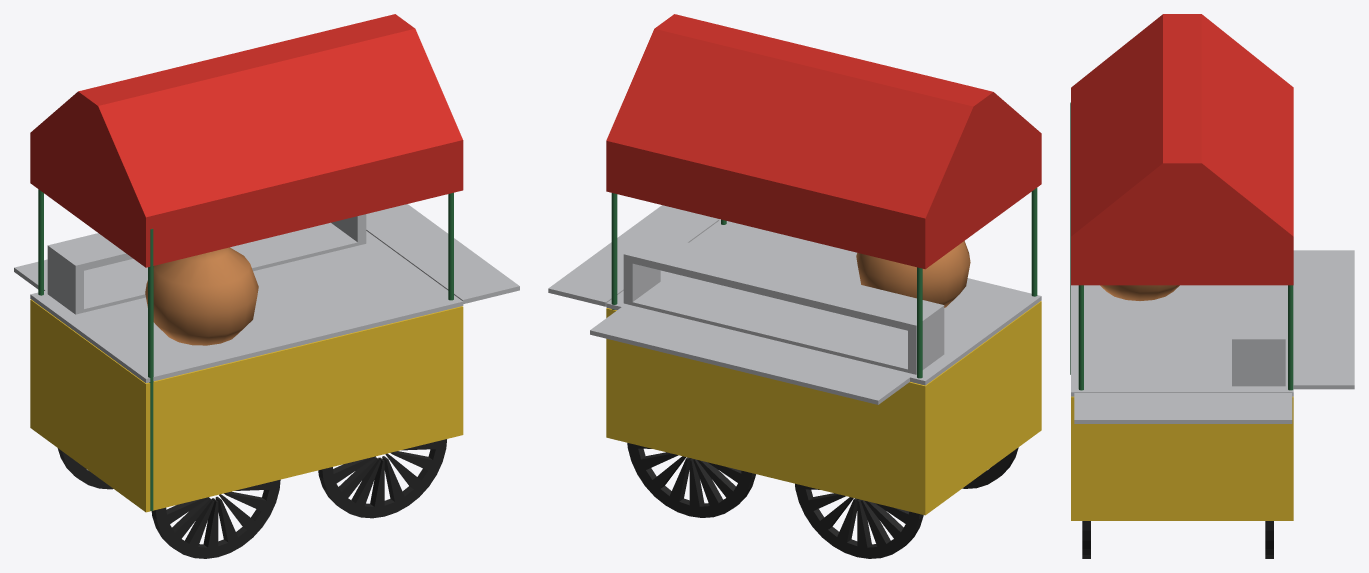
The model's file is foul-cart.glb.
The picture shows the model from 3 angles, left to right: view 1: azimuth 30°, elevation 25°; view 2: azimuth 150°, elevation 25°; view 3: azimuth 270°, elevation 25°; orthographic projection. The views are drawn at different scales.
Visible parts, largest first — view 1: foul_cart; view 2: foul_cart; view 3: foul_cart.
Part boxes in pixels (x1,y1,x2,y2): foul_cart: [14, 14, 519, 558]; foul_cart: [548, 14, 1041, 558]; foul_cart: [1070, 14, 1354, 558].
Bounding box in the file's own units: 1.97 × 2.2 × 1.34.
Materials: 1 (1 with a texture image).
